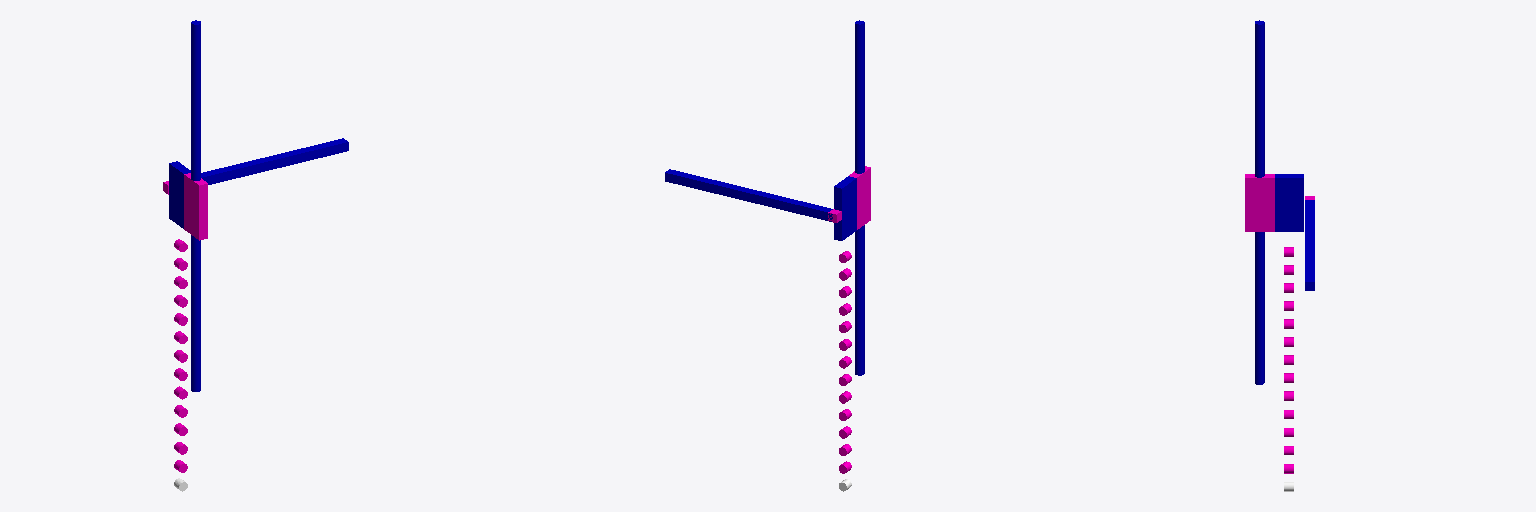
robot.urdf — myfirst:
<?xml version="1.0"?>
<!--https://valerolab.org/-->
<!--
Code used for PID control of an inverted pendulum actuated by strings.
-->
<robot name="myfirst">
  <material name="blue">
    <color rgba="0 0 0.8 1"/>
  </material>
  <material name="white">
    <color rgba="1 1 1 1"/>
  </material>
  <material name="other">
    <color rgba="1 0 0.8 1"/>
  </material>
  <velocity name="vel">
    <speed spd="50"/>
  </velocity>
  

  <link name="Rail">
    <visual>
      <geometry>
        <cylinder length="4" radius=".05"/>
      </geometry>
      <material name="blue"/>
    </visual>
    <collision>
      <geometry>
        <cylinder length="4" radius=".05"/>
      </geometry>
    </collision>
    <inertial>
      <mass value="100"/>
      <origin rpy="0 0 0" xyz="0 0 0"/>
      <inertia ixx="0" ixy="0.0" ixz="0.0" iyy="0" iyz="0.0" izz="0"/>
    </inertial>
  </link>

  <link name="slider">
    <visual>
      <geometry>
        <box size="0.1 0.6 0.3"/>
      </geometry>
      <material name="other"/>
    </visual>
    <collision>
      <geometry>
        <box size="0.1 0.6 0.3"/>
      </geometry>
    </collision>
    <inertial>
      <mass value="100"/>
      <origin rpy="0 0 0" xyz="0 0 0"/>
      <inertia ixx="0" ixy="0.0" ixz="0.0" iyy="0" iyz="0.0" izz="0"/>
    </inertial>
  </link>

  <joint name="rail_slider" type="prismatic">
    <axis xyz="0 1 0"/>
    <parent link="Rail"/>
    <child link="slider"/>
    <limit effort="0" lower="-2" upper="2" velocity="25"/>
    <origin rpy="-1.570796 0 0" xyz="0 0 0"/>
  </joint>

  <link name="cart">
    <visual>
      <geometry>
        <box size="0.1 0.6 0.3"/>
      </geometry>
      <material name="blue"/>
    </visual>
    <collision>
      <geometry>
        <box size="0.1 0.6 0.3"/>
      </geometry>
    </collision>
    <inertial>
      <mass value="100"/>
      <origin rpy="0 0 0" xyz="0 0 0"/>
      <inertia ixx="0" ixy="0.0" ixz="0.0" iyy="0" iyz="0.0" izz="0"/>
    </inertial>
  </link>

  <joint name="slider_cart" type="fixed">
    <parent link="slider"/>
    <child link="cart"/>
    <origin rpy="0 0 0" xyz="0 0 0.3"/>
  </joint>
<!--*****************************************-->
  
  <link name="pendulumAxis">
    <visual>
      <geometry>
        <box size="0.1 0.1 .1"/>
      </geometry>
      <material name="other"/>
    </visual>
    <collision>
      <geometry>
        <box size="0.1 0.1 .1"/>
      </geometry>
    </collision>
    <inertial>
      <mass value="10"/>
      <origin rpy="0 0 0" xyz="0 0 0"/>
      <inertia ixx="0" ixy="0.0" ixz="0.0" iyy="0" iyz="0.0" izz="0"/>
    </inertial>
  </link>

  <joint name="cart_pendulumAxis" type="revolute">
    <axis xyz="0 0 1"/>
    <parent link="cart"/>
    <child link="pendulumAxis"/>
    <limit effort="0" lower="1" upper="0" velocity="205"/>
    <origin rpy="0 0 0" xyz="0 0 .21"/>
  </joint>
  
  <link name="pendulum">
    <visual>
      <geometry>
        <box size="0.1 2 .1"/>
      </geometry>
      <material name="blue"/>
    </visual>
    <collision>
      <geometry>
        <box size="0.1 2 .1"/>
      </geometry>
    </collision>
    <inertial>
      <mass value="1"/>
      <origin rpy="0 0 0" xyz="0 0 0"/>
      <inertia ixx="0" ixy="0.0" ixz="0.0" iyy="0" iyz="0.0" izz="0"/>
    </inertial>
  </link>

  <joint name="pendulumAxis_pendulum" type="fixed">
    <parent link="pendulumAxis"/>
    <child link="pendulum"/>
    <origin rpy="0 0 1.570796" xyz="1 0 0"/>
  </joint>
  
      <!--*****************************************-->
  <link name="tendon1_1">
    <visual>
      <geometry>
        <cylinder length=".1" radius=".05"/>
      </geometry>
      <material name="other"/>
    </visual>
    <collision>
      <geometry>
        <cylinder length=".1" radius=".05"/>
      </geometry>
    </collision>
    <inertial>
      <mass value="10"/>
      <inertia ixx="0" ixy="0.0" ixz="0.0" iyy="0" iyz="0.0" izz="0"/>
    </inertial>
  </link>
  <joint name="cart_tendon1_1" type="revolute">
    <axis xyz="0 0 1"/>
    <parent link="cart"/>
    <child link="tendon1_1"/>
    <limit effort="0" lower="1" upper="0" velocity="50"/>
    <origin rpy="0 0 0" xyz="0 .55 0"/>
  </joint>

  <link name="tendon1_2">
    <visual>
      <geometry>
        <cylinder length=".1" radius=".05"/>
      </geometry>
      <material name="other"/>
    </visual>
    <collision>
      <geometry>
        <cylinder length=".1" radius=".05"/>
      </geometry>
    </collision>
    <inertial>
      <mass value="10"/>
      <inertia ixx="0" ixy="0.0" ixz="0.0" iyy="0" iyz="0.0" izz="0"/>
    </inertial>
  </link>
  <joint name="tendon1_1_tendon1_2" type="revolute">
    <axis xyz="0 0 1"/>
    <parent link="tendon1_1"/>
    <child link="tendon1_2"/>
    <limit effort="0" lower="1" upper="0" velocity="50"/>
    <origin rpy="0 0 0" xyz="0 .2 0"/>
  </joint>
  <link name="tendon1_3">
    <visual>
      <geometry>
        <cylinder length=".1" radius=".05"/>
      </geometry>
      <material name="other"/>
    </visual>
    <collision>
      <geometry>
        <cylinder length=".1" radius=".05"/>
      </geometry>
    </collision>
    <inertial>
      <mass value="10"/>
      <inertia ixx="0" ixy="0.0" ixz="0.0" iyy="0" iyz="0.0" izz="0"/>
    </inertial>
  </link>
  <joint name="tendon1_2_tendon1_3" type="revolute">
    <axis xyz="0 0 1"/>
    <parent link="tendon1_2"/>
    <child link="tendon1_3"/>
    <limit effort="0" lower="1" upper="0" velocity="50"/>
    <origin rpy="0 0 0" xyz="0 .2 0"/>
  </joint>
  <link name="tendon1_4">
    <visual>
      <geometry>
        <cylinder length=".1" radius=".05"/>
      </geometry>
      <material name="other"/>
    </visual>
    <collision>
      <geometry>
        <cylinder length=".1" radius=".05"/>
      </geometry>
    </collision>
    <inertial>
      <mass value="10"/>
      <inertia ixx="0" ixy="0.0" ixz="0.0" iyy="0" iyz="0.0" izz="0"/>
    </inertial>
  </link>
  <joint name="tendon1_3_tendon1_4" type="revolute">
    <axis xyz="0 0 1"/>
    <parent link="tendon1_3"/>
    <child link="tendon1_4"/>
    <limit effort="0" lower="1" upper="0" velocity="50"/>
    <origin rpy="0 0 0" xyz="0 .2 0"/>
  </joint>
  <link name="tendon1_5">
    <visual>
      <geometry>
        <cylinder length=".1" radius=".05"/>
      </geometry>
      <material name="other"/>
    </visual>
    <collision>
      <geometry>
        <cylinder length=".1" radius=".05"/>
      </geometry>
    </collision>
    <inertial>
      <mass value="10"/>
      <inertia ixx="0" ixy="0.0" ixz="0.0" iyy="0" iyz="0.0" izz="0"/>
    </inertial>
  </link>
  <joint name="tendon1_4_tendon1_5" type="revolute">
    <axis xyz="0 0 1"/>
    <parent link="tendon1_4"/>
    <child link="tendon1_5"/>
    <limit effort="0" lower="1" upper="0" velocity="50"/>
    <origin rpy="0 0 0" xyz="0 .2 0"/>
  </joint>
  <link name="tendon1_6">
    <visual>
      <geometry>
        <cylinder length=".1" radius=".05"/>
      </geometry>
      <material name="other"/>
    </visual>
    <collision>
      <geometry>
        <cylinder length=".1" radius=".05"/>
      </geometry>
    </collision>
    <inertial>
      <mass value="10"/>
      <inertia ixx="0" ixy="0.0" ixz="0.0" iyy="0" iyz="0.0" izz="0"/>
    </inertial>
  </link>
  <joint name="tendon1_5_tendon1_6" type="revolute">
    <axis xyz="0 0 1"/>
    <parent link="tendon1_5"/>
    <child link="tendon1_6"/>
    <limit effort="0" lower="1" upper="0" velocity="50"/>
    <origin rpy="0 0 0" xyz="0 .2 0"/>
  </joint>
  <link name="tendon1_7">
    <visual>
      <geometry>
        <cylinder length=".1" radius=".05"/>
      </geometry>
      <material name="other"/>
    </visual>
    <collision>
      <geometry>
        <cylinder length=".1" radius=".05"/>
      </geometry>
    </collision>
    <inertial>
      <mass value="10"/>
      <inertia ixx="0" ixy="0.0" ixz="0.0" iyy="0" iyz="0.0" izz="0"/>
    </inertial>
  </link>
  <joint name="tendon1_6_tendon1_7" type="revolute">
    <axis xyz="0 0 1"/>
    <parent link="tendon1_6"/>
    <child link="tendon1_7"/>
    <limit effort="0" lower="1" upper="0" velocity="50"/>
    <origin rpy="0 0 0" xyz="0 .2 0"/>
  </joint>
  <link name="tendon1_8">
    <visual>
      <geometry>
        <cylinder length=".1" radius=".05"/>
      </geometry>
      <material name="other"/>
    </visual>
    <collision>
      <geometry>
        <cylinder length=".1" radius=".05"/>
      </geometry>
    </collision>
    <inertial>
      <mass value="10"/>
      <inertia ixx="0" ixy="0.0" ixz="0.0" iyy="0" iyz="0.0" izz="0"/>
    </inertial>
  </link>
  <joint name="tendon1_7_tendon1_8" type="revolute">
    <axis xyz="0 0 1"/>
    <parent link="tendon1_7"/>
    <child link="tendon1_8"/>
    <limit effort="0" lower="1" upper="0" velocity="50"/>
    <origin rpy="0 0 0" xyz="0 .2 0"/>
  </joint>
  <link name="tendon1_9">
    <visual>
      <geometry>
        <cylinder length=".1" radius=".05"/>
      </geometry>
      <material name="other"/>
    </visual>
    <collision>
      <geometry>
        <cylinder length=".1" radius=".05"/>
      </geometry>
    </collision>
    <inertial>
      <mass value="10"/>
      <inertia ixx="0" ixy="0.0" ixz="0.0" iyy="0" iyz="0.0" izz="0"/>
    </inertial>
  </link>
  <joint name="tendon1_8_tendon1_9" type="revolute">
    <axis xyz="0 0 1"/>
    <parent link="tendon1_8"/>
    <child link="tendon1_9"/>
    <limit effort="0" lower="1" upper="0" velocity="50"/>
    <origin rpy="0 0 0" xyz="0 .2 0"/>
  </joint>
  <link name="tendon1_10">
    <visual>
      <geometry>
        <cylinder length=".1" radius=".05"/>
      </geometry>
      <material name="other"/>
    </visual>
    <collision>
      <geometry>
        <cylinder length=".1" radius=".05"/>
      </geometry>
    </collision>
    <inertial>
      <mass value="10"/>
      <inertia ixx="0" ixy="0.0" ixz="0.0" iyy="0" iyz="0.0" izz="0"/>
    </inertial>
  </link>
  <joint name="tendon1_9_tendon1_10" type="revolute">
    <axis xyz="0 0 1"/>
    <parent link="tendon1_9"/>
    <child link="tendon1_10"/>
    <limit effort="0" lower="1" upper="0" velocity="50"/>
    <origin rpy="0 0 0" xyz="0 .2 0"/>
  </joint>
  <link name="tendon1_11">
    <visual>
      <geometry>
        <cylinder length=".1" radius=".05"/>
      </geometry>
      <material name="other"/>
    </visual>
    <collision>
      <geometry>
        <cylinder length=".1" radius=".05"/>
      </geometry>
    </collision>
    <inertial>
      <mass value="10"/>
      <inertia ixx="0" ixy="0.0" ixz="0.0" iyy="0" iyz="0.0" izz="0"/>
    </inertial>
  </link>
  <joint name="tendon1_10_tendon1_11" type="revolute">
    <axis xyz="0 0 1"/>
    <parent link="tendon1_10"/>
    <child link="tendon1_11"/>
    <limit effort="0" lower="1" upper="0" velocity="50"/>
    <origin rpy="0 0 0" xyz="0 .2 0"/>
  </joint>
  <link name="tendon1_12">
    <visual>
      <geometry>
        <cylinder length=".1" radius=".05"/>
      </geometry>
      <material name="other"/>
    </visual>
    <collision>
      <geometry>
        <cylinder length=".1" radius=".05"/>
      </geometry>
    </collision>
    <inertial>
      <mass value="10"/>
      <inertia ixx="0" ixy="0.0" ixz="0.0" iyy="0" iyz="0.0" izz="0"/>
    </inertial>
  </link>
  <joint name="tendon1_11_tendon1_12" type="revolute">
    <axis xyz="0 0 1"/>
    <parent link="tendon1_11"/>
    <child link="tendon1_12"/>
    <limit effort="0" lower="1" upper="0" velocity="50"/>
    <origin rpy="0 0 0" xyz="0 .2 0"/>
  </joint>
  <link name="tendon1_13">
    <visual>
      <geometry>
        <cylinder length=".1" radius=".05"/>
      </geometry>
      <material name="other"/>
    </visual>
    <collision>
      <geometry>
        <cylinder length=".1" radius=".05"/>
      </geometry>
    </collision>
    <inertial>
      <mass value="10"/>
      <inertia ixx="0" ixy="0.0" ixz="0.0" iyy="0" iyz="0.0" izz="0"/>
    </inertial>
  </link>
  <joint name="tendon1_12_tendon1_13" type="revolute">
    <axis xyz="0 0 1"/>
    <parent link="tendon1_12"/>
    <child link="tendon1_13"/>
    <limit effort="0" lower="1" upper="0" velocity="50"/>
    <origin rpy="0 0 0" xyz="0 .2 0"/>
  </joint>
  <link name="tendon1_14">
    <visual>
      <geometry>
        <cylinder length=".1" radius=".05"/>
      </geometry>
      <material name="white"/>
    </visual>
    <collision>
      <geometry>
        <cylinder length=".1" radius=".05"/>
      </geometry>
    </collision>
    <inertial>
      <mass value="10"/>
      <inertia ixx="0" ixy="0.0" ixz="0.0" iyy="0" iyz="0.0" izz="0"/>
    </inertial>
  </link>
  <joint name="tendon1_13_tendon1_14" type="revolute">
    <axis xyz="0 0 1"/>
    <parent link="tendon1_13"/>
    <child link="tendon1_14"/>
    <limit effort="0" lower="1" upper="0" velocity="50"/>
    <origin rpy="0 0 0" xyz="0 .2 0"/>
  </joint>
  
   <!---->
</robot>

--- Render facts (derived) ---
3 views of the same robot in one strip: view 1: azimuth 30°, elevation 25°; view 2: azimuth 150°, elevation 25°; view 3: azimuth 270°, elevation 25° (orthographic).
Robot: myfirst — 19 links, 18 joints (15 revolute, 1 prismatic, 2 fixed); root link Rail; default pose: all joints at 0.
Links seen in each view (by area): view 1: Rail, pendulum, slider, cart; view 2: Rail, pendulum, cart, slider; view 3: Rail, slider, cart, pendulum.
Link boxes in pixels (<box>): Rail: <box>191,20,200,391</box>; pendulum: <box>201,138,348,184</box>; slider: <box>184,173,207,240</box>; cart: <box>169,161,190,228</box>; Rail: <box>855,20,864,375</box>; pendulum: <box>665,169,832,221</box>; cart: <box>834,176,856,240</box>; slider: <box>849,166,870,229</box>; Rail: <box>1255,20,1264,384</box>; slider: <box>1245,174,1274,231</box>; cart: <box>1275,174,1303,231</box>; pendulum: <box>1305,200,1314,290</box>.
Size in the robot's own frame: 2.05 by 0.71 by 5.2 metres.
Geometry: primitives only (box / cylinder / sphere), no mesh files.
